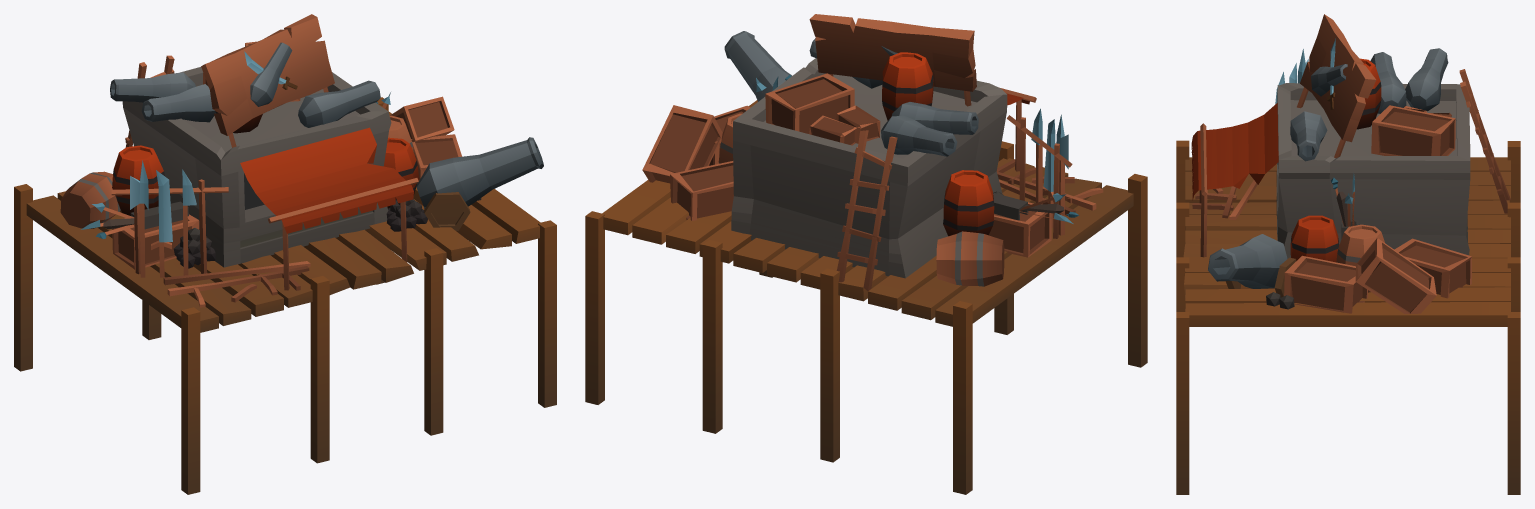
The model's file is WeaponShop.fbx.
3 views of the same model, side by side, from view 1: azimuth 30°, elevation 25°; view 2: azimuth 150°, elevation 25°; view 3: azimuth 270°, elevation 25° (orthographic). The views are drawn at different scales.
Visible parts, largest first — view 1: Shop_Port_Island.006; view 2: Shop_Port_Island.006; view 3: Shop_Port_Island.006.
Boxes of the visible parts, box(x1,y1,x2,y2) form: Shop_Port_Island.006: box(14, 14, 556, 494); Shop_Port_Island.006: box(585, 14, 1147, 494); Shop_Port_Island.006: box(1176, 14, 1520, 494).
Size of the model in its own units: 1217 by 1031 by 924.
